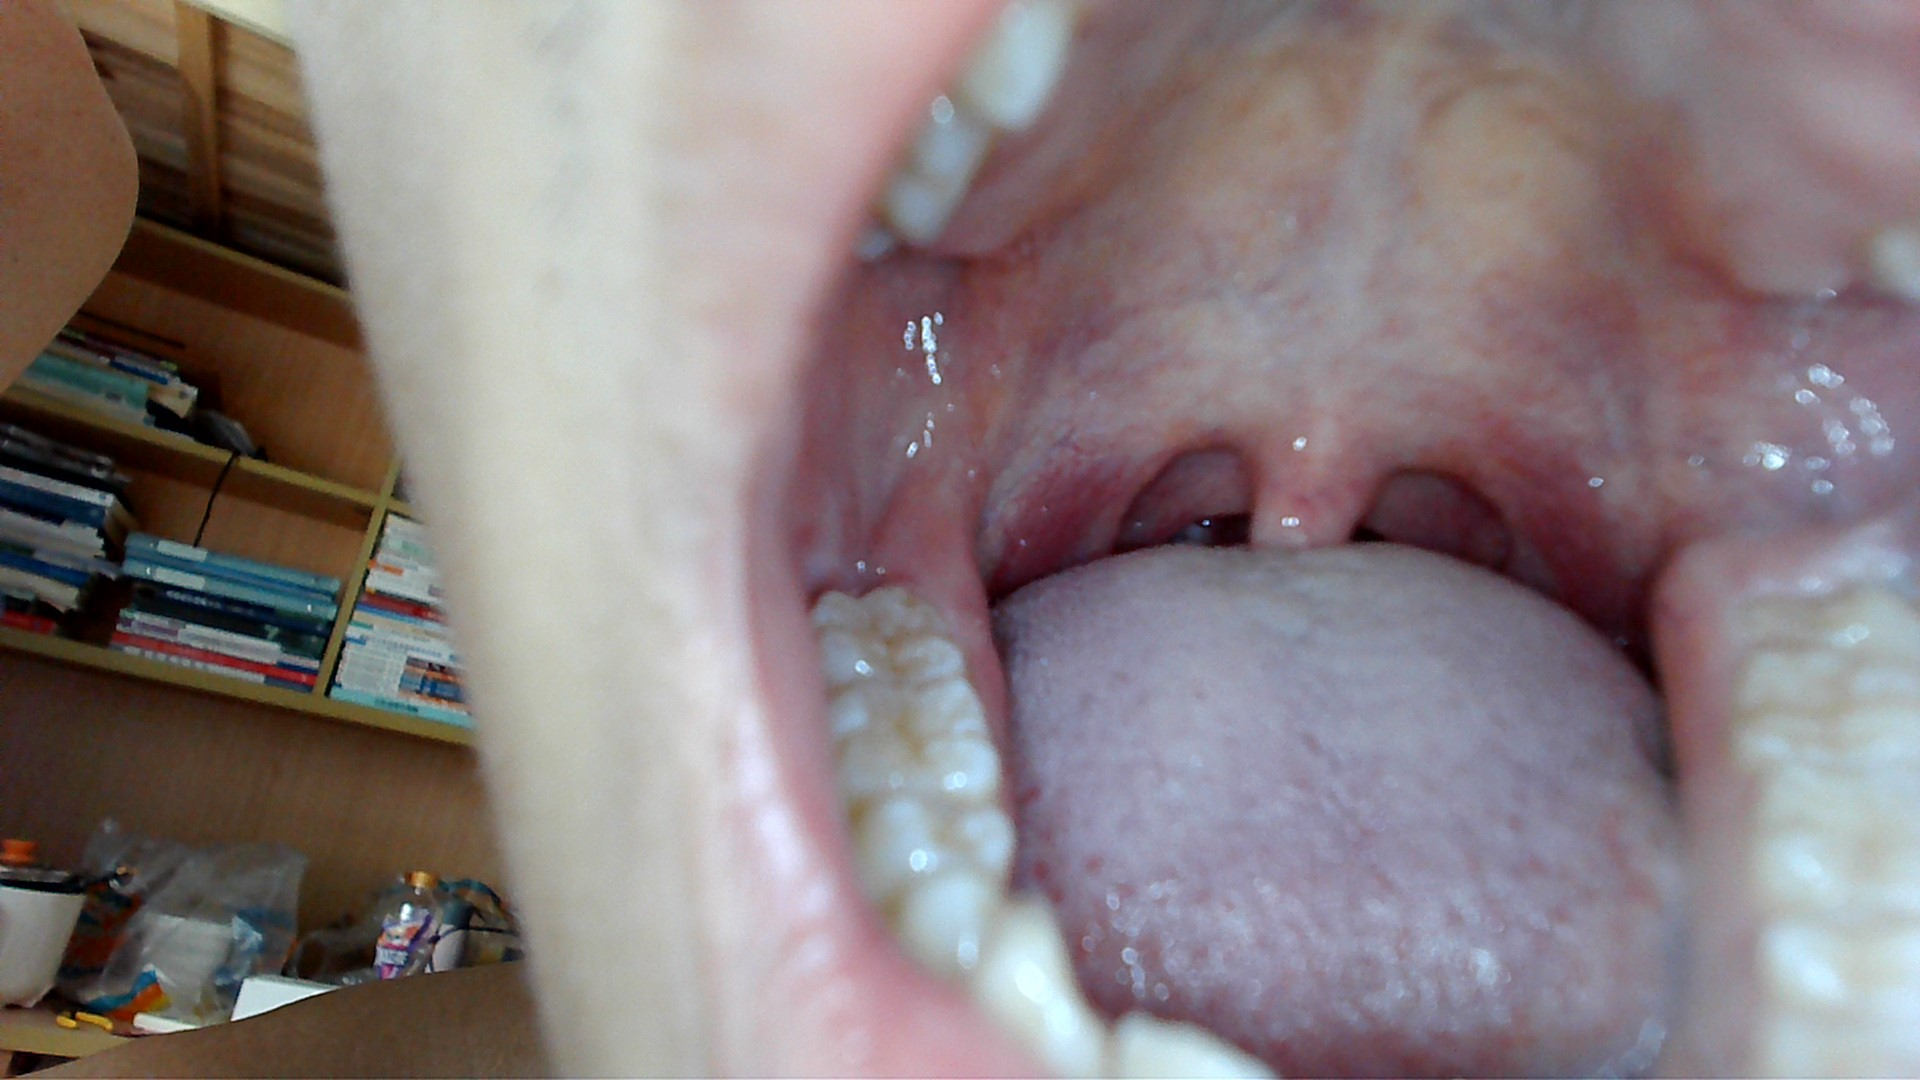throat: (1494, 444, 1578, 592), (1077, 419, 1154, 556)
